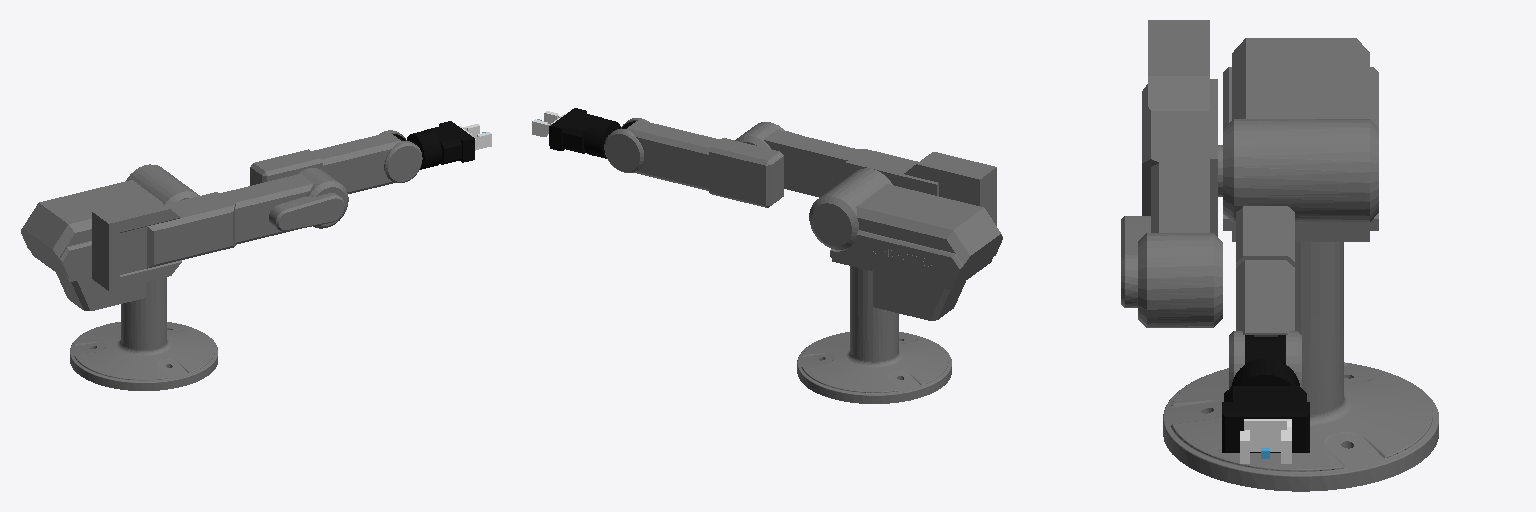
The robot description file, URDF, robot "scorbot":
<?xml version="1.0" encoding="utf-8"?>
<!-- =================================================================================== -->
<!-- |    This document was autogenerated by xacro from scorbot.urdf.xacro             | -->
<!-- |    EDITING THIS FILE BY HAND IS NOT RECOMMENDED                                 | -->
<!-- =================================================================================== -->
<robot name="scorbot">

  <link name="world"/>
  <joint name="dummy" type="fixed">
    <parent link="world"/>
    <child link="base"/>
  </joint>

  <!-- base -->
  <link name="base">
    <inertial>
      <origin rpy="0 0 0" xyz="-5.6661E-09 -4.8129E-10 0.049865"/>
      <mass value="3.5594"/>
      <inertia ixx="0.025688" ixy="-2.4368E-10" ixz="1.2537E-10" iyy="0.025688" iyz="-3.2961E-12" izz="0.028476"/>
    </inertial>
    <visual>
      <origin rpy="1.5707963268 0 0" xyz="0 0 0"/>
      <geometry>
        <mesh filename="package://scorbot_gazebo_effort/meshes/base.dae"/>
      </geometry>
      <material name="">
        <color rgba="0.5 0.5 0.5 1"/>
      </material>
    </visual>
    <collision>
      <origin rpy="0 0 0" xyz="0 0 0.0225"/>
      <geometry>
        <cylinder length="0.045" radius="0.16"/>
      </geometry>
    </collision>
    <collision>
      <origin rpy="0 0 0" xyz="0 0 0.085"/>
      <geometry>
        <cylinder length="0.170" radius="0.05"/>
      </geometry>
    </collision>
  </link>

  <!-- body (link 1) -->
  <link name="body">
    <inertial>
      <origin rpy="0 0 0" xyz="-0.072272 -0.0016694 0.145"/>
      <mass value="9.7868"/>
      <inertia ixx="0.05511" ixy="-0.001985" ixz="0.0061208" iyy="0.12037" iyz="-0.00070806" izz="0.10965"/>
    </inertial>
    <visual>
      <origin rpy="-1.5707963268 0 0" xyz="0 0 0"/>
      <geometry>
        <mesh filename="package://scorbot_gazebo_effort/meshes/body.dae"/>
      </geometry>
      <material name="">
        <color rgba="0.5 0.5 0.5 1"/>
      </material>
    </visual>
    <collision>
      <origin rpy="0 0 0" xyz="-0.08 0 0.125"/>
      <geometry>
        <box size="0.380 0.18 0.25"/>
      </geometry>
    </collision>
  </link>

  <!-- base_joint (joint) -->
  <joint name="base_joint" type="revolute">
    <origin rpy="0 0 0" xyz="0 0 0.17"/>  <!-- modificación origin rpy -> y: 0-> 0.411898 = 23.6°--> 
    <parent link="base"/>
    <child link="body"/>
    <axis xyz="0 0 1"/>
    <limit effort="30" lower="-2.18166156499" upper="2.18166156499" velocity="1.0"/>
  </joint>

  <!-- upper_arm (link 2) -->
  <link name="upper_arm">
    <inertial>
      <origin rpy="0 0 0" xyz="0.040893 -0.046847 -6.337E-05"/>
      <mass value="5.4535"/>
      <inertia ixx="0.010363" ixy="-0.0023486" ixz="3.9183E-05" iyy="0.1835" iyz="-4.8475E-07" izz="0.18016"/>
    </inertial>
    <visual>
      <origin rpy="-1.5707963268 0 0" xyz="0 0 0"/>
      <geometry>
        <mesh filename="package://scorbot_gazebo_effort/meshes/upper_arm.dae"/>
      </geometry>
      <material name="">
        <color rgba="0.5 0.5 0.5 1"/>
      </material>
    </visual>
    <collision>
      <origin rpy="0 0 0" xyz="0.06 -0.06 0"/>
      <geometry>
        <box size="0.60 0.12 0.16"/>
      </geometry>
    </collision>
  </link>

  <!-- shoulder (joint) -->
  <joint name="shoulder" type="revolute">
    <origin rpy="0 0 0" xyz="0.05 -0.096 0.1885"/> <!-- modificación origin rpy -> p: 0-> -0.383972 = -22° --> 
    <parent link="body"/>
    <child link="upper_arm"/>
    <axis xyz="0 1 0"/>
    <limit effort="30" lower="-1.4835298642" upper="1.4835298642" velocity="1.0"/>
  </joint>

  <!-- forearm (link 3) -->
  <link name="forearm">
    <inertial>
      <origin rpy="0 0 0" xyz="0.073997 0.038242 4.5577E-11"/>
      <mass value="2.194"/>
      <inertia ixx="0.0025816" ixy="5.645E-05" ixz="1.195E-11" iyy="0.024687" iyz="4.1344E-12" izz="0.02443"/>
    </inertial>
    <visual>
      <origin rpy="1.5707963268 0 0" xyz="0 0 0"/>
      <geometry>
        <mesh filename="package://scorbot_gazebo_effort/meshes/forearm.dae"/>
      </geometry>
      <material name="">
        <color rgba="0.5 0.5 0.5 1"/>
      </material>
    </visual>
    <collision>
      <origin rpy="0 0 0" xyz="0.05 0.035 0"/>
      <geometry>
        <box size="0.3 0.095 0.12"/>
      </geometry>
    </collision>
  </link>

  <!-- elbow (joint) -->
  <joint name="elbow" type="revolute">
    <origin rpy="0 0 0" xyz="0.3 0.021 0"/>  <!-- modificación origin rpy -> p: 0-> 0.20944 = 12° o 0.390954 = 22.4°--> 
    <parent link="upper_arm"/>
    <child link="forearm"/>
    <axis xyz="0 -1 0"/>
    <limit effort="30" lower="-1.96349540849" upper="1.96349540849" velocity="1.0"/>
  </joint>

  <!-- flange (link 4) -->
  <link name="flange">
    <inertial>
      <origin rpy="0 0 0" xyz="0.0069957 -0.02 5.5511E-17"/>
      <mass value="0.24441"/>
      <inertia ixx="0.00014819" ixy="1.6491E-20" ixz="-1.653E-19" iyy="0.00028003" iyz="5.3591E-21" izz="0.00021086"/>
    </inertial>
    <visual>
      <origin rpy="-1.5707963268 0 0" xyz="0 0 0"/>
      <geometry>
        <mesh filename="package://scorbot_gazebo_effort/meshes/flange.dae"/>
      </geometry>
      <material name="">
        <color rgba="0.1 0.1 0.1 1"/>
      </material>
    </visual>
    <collision>
      <origin rpy="-1.5707963268 0 0" xyz="0 -0.024 0"/>
      <geometry>
        <cylinder length="0.105" radius="0.05"/>
      </geometry>
    </collision>
  </link>

  <!-- pitch (joint) -->
  <joint name="pitch" type="revolute">
    <origin rpy="0 0 0" xyz="0.25 0.058 0"/>
    <parent link="forearm"/>
    <child link="flange"/>
    <axis xyz="0 -1 0"/>
    <limit effort="30" lower="-1.5707963268" upper="1.5707963268" velocity="1.0"/>
  </joint>

  <!-- roll (joint) -->
  <joint name="roll" type="revolute">
    <origin rpy="0 0 0" xyz="0.054 -0.024 0"/>
    <parent link="flange"/>
    <child link="gripper_base_link"/>
    <axis xyz="-1 0 0"/>
    <limit effort="30" lower="-3.14159265359" upper="3.14159265359" velocity="1.0"/>
  </joint>


  <!-- Gripper base (link 5) -->
  <link name="gripper_base_link">
    <inertial>
      <origin rpy="0 0 0" xyz="0.0593648790750631 0 0"/>
      <mass value="1.59125921054032"/>
      <inertia ixx="0.00147991252859225" ixy="1.34230402513126E-19" ixz="1.07467005492524E-19" iyy="0.00232303179944379" iyz="-4.07594317291221E-20" izz="0.00291367454744379"/>
    </inertial>
    <visual>
      <origin rpy="-1.5707963268 0 0" xyz="0 0 0"/>
      <geometry>
        <mesh filename="package://scorbot_gazebo_effort/meshes/gripper_base.dae"/>
      </geometry>
      <material name="">
        <color rgba="0.1 0.1 0.1 1"/>
      </material>
    </visual>
    <collision>
      <origin rpy="0 0 0" xyz="0.08 0.0 0.0"/>
      <geometry>
        <box size="0.078 0.110 0.055"/>
      </geometry>
    </collision>
    <collision>
      <origin rpy="0 -1.5707963268 0" xyz="0.019 0 0"/>
      <geometry>
        <cylinder length="0.044" radius="0.05"/>
      </geometry>
    </collision>
  </link>

  <!-- Gripper left (link 6) -->
  <link name="gripper_finger_left">
    <inertial>
      <origin rpy="0 0 0" xyz="0.021935 0.017436 0.0038599"/>
      <mass value="0.1"/>
      <inertia ixx="1.4677E-05" ixy="-7.1238E-06" ixz="3.6153E-06" iyy="1.82E-05" iyz="2.343E-06" izz="2.4607E-05"/>
    </inertial>
    <visual>
      <origin rpy="-1.5707963268 0 0" xyz="0 0 0"/>
      <geometry>
        <mesh filename="package://scorbot_gazebo_effort/meshes/gripper_finger.dae"/>
      </geometry>
      <material name="">
        <color rgba="0.9 0.9 0.9 1"/>
      </material>
    </visual>
    <collision>
      <origin rpy="-1.5707963268 0 0" xyz="0 0 0"/>
      <geometry>
        <mesh filename="package://scorbot_gazebo_effort/meshes/gripper_finger.dae"/>
      </geometry>
    </collision>
  </link>

  <!-- Gripper left (joint) -->
  <joint name="gripper_finger_left_joint" type="prismatic">
    <origin rpy="0 0 0" xyz="0.118 0.0026 0.010"/>
    <parent link="gripper_base_link"/>
    <child link="gripper_finger_left"/>
    <axis xyz="0 1 0"/>
    <limit effort="30" lower="-0.018" upper="0.016" velocity="1.0"/>
  </joint>

  <!-- Gripper left (link 7) -->
  <link name="gripper_finger_right">
    <inertial>
      <origin rpy="0 0 0" xyz="0.021935 0.014436 -0.0061401"/>
      <mass value="0.1"/>
      <inertia ixx="1.4677E-05" ixy="-7.1238E-06" ixz="3.6153E-06" iyy="1.82E-05" iyz="2.343E-06" izz="2.4607E-05"/>
    </inertial>
    <visual>
      <origin rpy="1.5707963268 0 0" xyz="0 0 0"/>
      <geometry>
        <mesh filename="package://scorbot_gazebo_effort/meshes/gripper_finger.dae"/>
      </geometry>
      <material name="">
        <color rgba="0.9 0.9 0.9 1"/>
      </material>
    </visual>
    <collision>
      <origin rpy="1.5707963268 0 0" xyz="0 0 0"/>
      <geometry>
        <mesh filename="package://scorbot_gazebo_effort/meshes/gripper_finger.dae"/>
      </geometry>
    </collision>
  </link>

  <!-- Gripper right (joint) -->
  <joint name="gripper_finger_right_joint" type="prismatic">
    <origin rpy="0 0 0" xyz="0.118 -0.0026 -0.010"/>
    <parent link="gripper_base_link"/>
    <child link="gripper_finger_right"/>
    <axis xyz="0 -1 0"/>
    <limit effort="30" lower="-0.018" upper="0.016" velocity="1.0"/>
  </joint>

  <!-- end effector link -->
  <link name="end_effector_link">
    <visual>
      <origin xyz="0 0 0" rpy="0 0 0"/>
      <geometry>
        <box size="0.01 0.01 0.01" />
      </geometry>
      <material name="red"/>
     </visual>

    <inertial>
      <origin xyz="0 0 0" />
      <mass value="1.0e-03" />
      <inertia ixx="1.0e-03" ixy="0.0" ixz="0.0"
               iyy="1.0e-03" iyz="0.0"
               izz="1.0e-03" />
    </inertial>
  </link>

    <!-- end effector joint -->
  <joint name="end_effector_joint" type="fixed">
    <origin xyz="0.17 0.0 0.0" rpy="0 0 0"/>  <!-- 0.17 -->
    <parent link="gripper_base_link"/>
    <child link="end_effector_link"/>
  </joint>

</robot>

--- What the picture shows (computed from the rendered views, not written in the file) ---
3 views of the same robot in one strip: view 1: azimuth 30°, elevation 25°; view 2: azimuth 150°, elevation 25°; view 3: azimuth 270°, elevation 25° (orthographic).
Model scorbot with 10 links and 9 joints (5 revolute, 2 prismatic, 2 fixed), rooted at world, posed all joints at 0.
Visible links, largest first — view 1: upper_arm, base, body, forearm, gripper_base_link; view 2: body, base, forearm, upper_arm, gripper_base_link; view 3: body, upper_arm, base, forearm, gripper_base_link, gripper_finger_left, flange, gripper_finger_right.
Link boxes in pixels (x1,y1,x2,y2): upper_arm: (92,168,348,290); base: (70,291,217,390); body: (21,164,199,310); forearm: (250,130,422,193); gripper_base_link: (414,121,474,168); body: (809,168,1002,320); base: (797,296,951,403); forearm: (604,118,783,207); upper_arm: (735,122,996,225); gripper_base_link: (549,108,611,157); body: (1218,38,1378,317); upper_arm: (1121,20,1222,327); base: (1163,303,1438,491); forearm: (1229,206,1301,388); gripper_base_link: (1222,360,1309,452); gripper_finger_left: (1244,419,1291,463); flange: (1231,335,1299,386); gripper_finger_right: (1240,430,1280,463).
Size in the robot's own frame: 1.09 by 0.369 by 0.4385 metres.
8 mesh visuals loaded from 7 distinct referenced files (7 Collada DAE).
